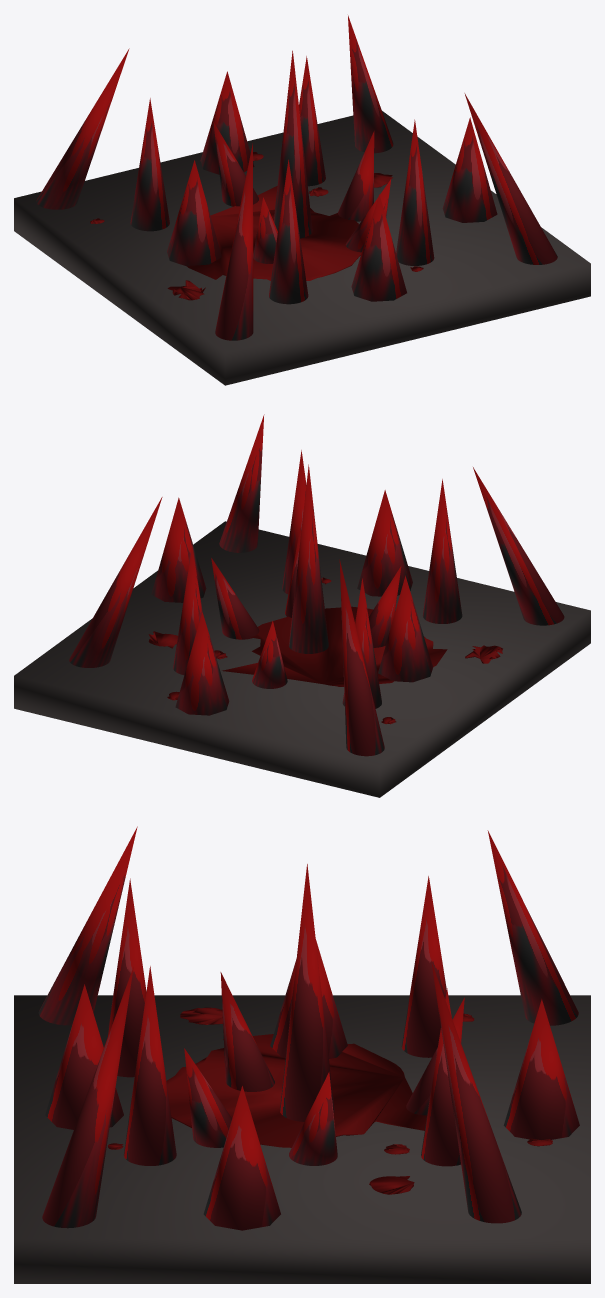
Rendered from spiketrap.fbx.
3 views of the same model, one above another, from view 1: azimuth 30°, elevation 25°; view 2: azimuth 150°, elevation 25°; view 3: azimuth 270°, elevation 25° (orthographic). The views are drawn at different scales.
Visible parts, largest first — view 1: Cube, Cone, Circle; view 2: Cube, Cone, Circle; view 3: Cube, Cone, Circle, Circle.006, Circle.003.
Boxes of the visible parts, x1,y1,x2,y2 form: Cube: [14, 111, 590, 385]; Cone: [36, 15, 557, 340]; Circle: [187, 186, 361, 280]; Cube: [14, 521, 590, 797]; Cone: [69, 414, 564, 756]; Circle: [222, 606, 447, 686]; Cube: [14, 995, 590, 1283]; Cone: [38, 826, 579, 1230]; Circle: [166, 1034, 426, 1147]; Circle.006: [369, 1176, 414, 1194]; Circle.003: [180, 1007, 222, 1024].
Size of the model in its own units: 200 by 113 by 200.
